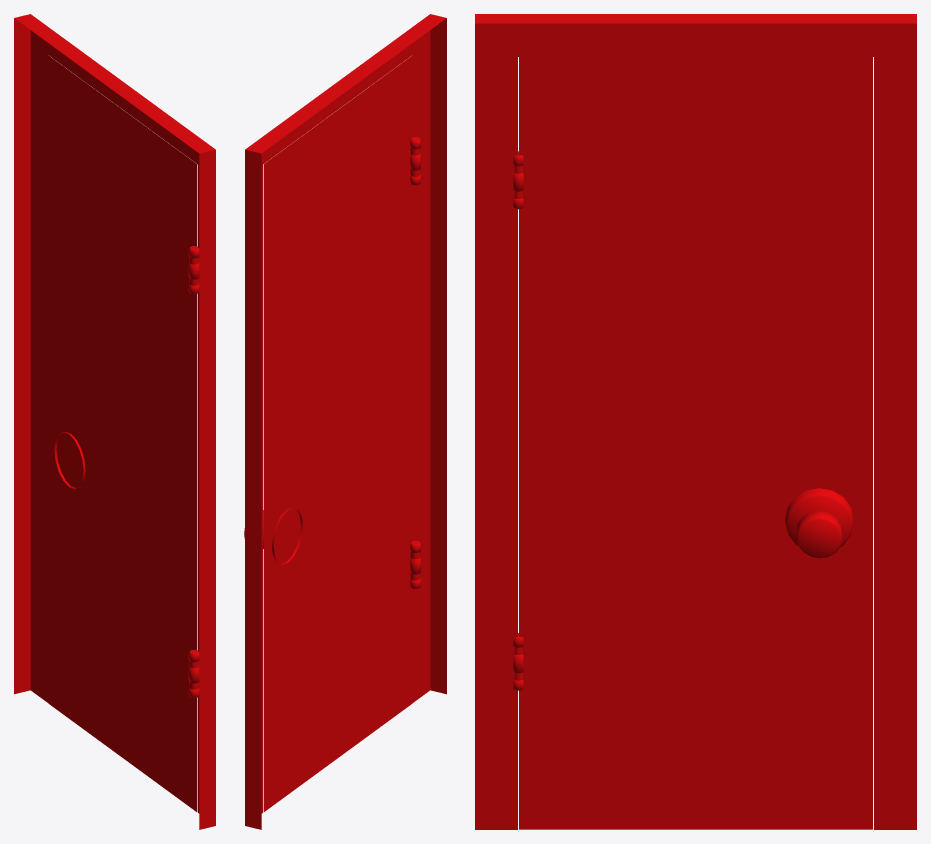
File: props_KitchenDoor.fbx
The picture shows the model from 3 angles, left to right: view 1: azimuth 30°, elevation 25°; view 2: azimuth 150°, elevation 25°; view 3: azimuth 270°, elevation 25°; orthographic projection. The views are drawn at different scales.
Visible parts, largest first — view 1: PorteCuisine.Low; view 2: PorteCuisine.Low; view 3: PorteCuisine.Low.
Boxes of the visible parts, bbox=[...] form: PorteCuisine.Low: bbox=[14, 14, 215, 829]; PorteCuisine.Low: bbox=[244, 14, 446, 829]; PorteCuisine.Low: bbox=[475, 14, 916, 829].
Bounding box in the file's own units: 19.33 × 251 × 125.
